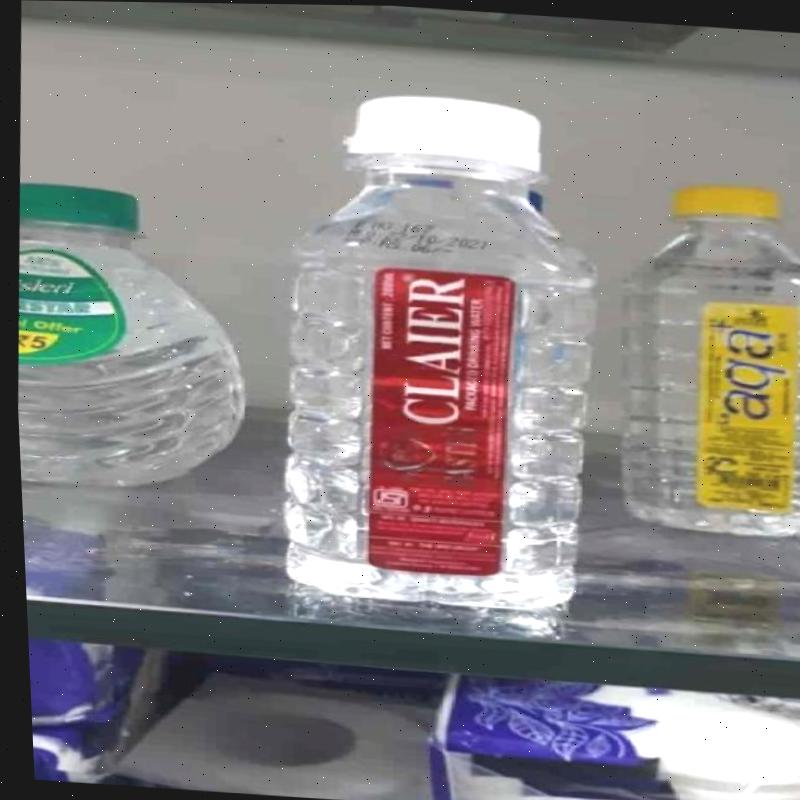botella: (253, 83, 603, 618), (6, 181, 252, 493), (595, 173, 800, 539)
